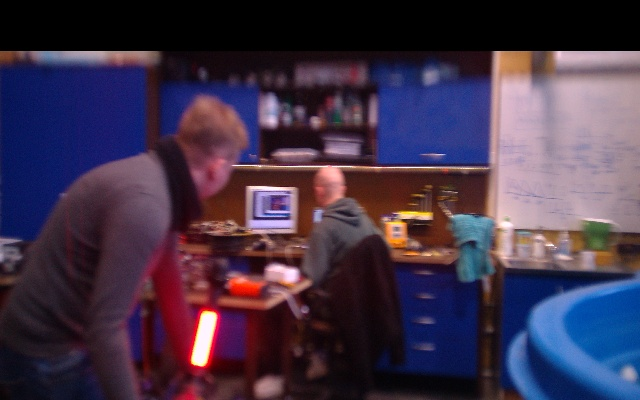red: (189, 310, 220, 370)
